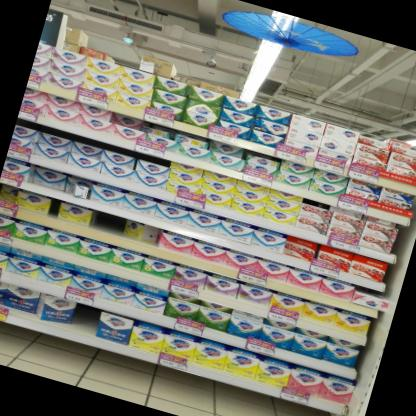empty_space: (69, 304, 103, 340), (89, 211, 127, 240)
